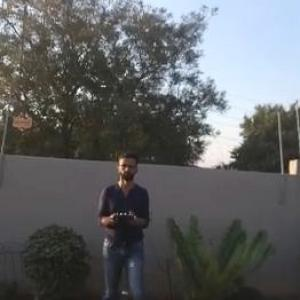follow: (96, 148, 168, 299)
